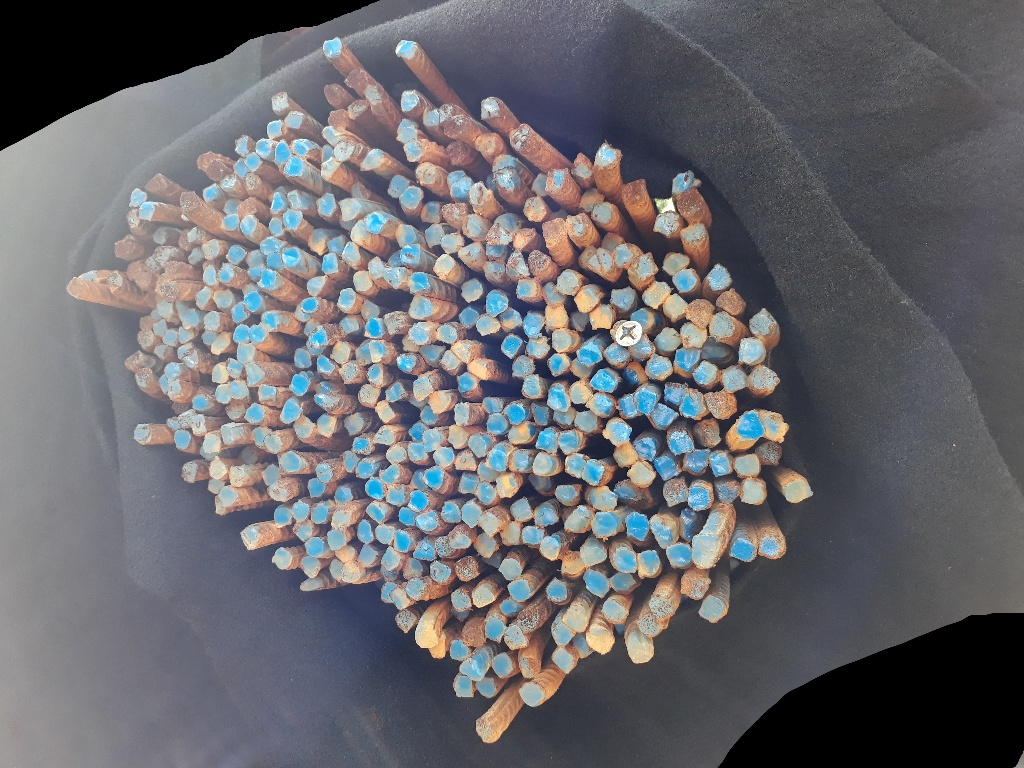dipstick: (705, 389, 740, 419), (649, 512, 678, 548), (693, 534, 721, 570), (680, 571, 712, 602), (747, 365, 781, 394), (698, 594, 728, 625), (679, 387, 709, 418), (716, 288, 749, 316), (734, 410, 764, 440), (642, 280, 671, 310), (441, 202, 470, 231), (627, 459, 657, 487), (604, 417, 634, 445), (737, 336, 767, 364), (444, 141, 476, 167), (739, 477, 768, 505), (761, 413, 789, 442), (587, 628, 616, 656), (562, 505, 590, 534), (746, 307, 774, 336), (686, 298, 714, 327), (649, 592, 677, 620), (654, 326, 682, 354), (680, 320, 708, 348), (695, 417, 721, 447), (674, 346, 704, 372), (783, 478, 814, 503), (587, 486, 619, 510), (706, 262, 733, 290), (663, 478, 689, 507), (517, 681, 546, 707), (507, 422, 536, 448), (587, 304, 616, 330), (505, 623, 530, 653), (652, 455, 682, 480), (702, 336, 732, 361), (570, 152, 595, 182), (473, 131, 503, 156), (679, 508, 702, 540), (668, 430, 695, 457), (650, 402, 677, 429), (671, 268, 698, 295), (602, 599, 630, 625), (708, 312, 736, 338), (630, 253, 658, 279), (577, 186, 605, 212), (543, 217, 565, 250), (759, 534, 788, 559), (734, 453, 763, 478), (613, 544, 638, 573), (523, 195, 548, 224), (587, 248, 617, 272), (552, 646, 578, 673), (682, 449, 708, 476), (645, 353, 672, 379), (386, 173, 413, 199), (756, 441, 784, 466), (666, 544, 694, 569), (545, 576, 570, 604), (591, 370, 619, 395), (629, 333, 654, 361), (664, 293, 689, 321), (615, 479, 644, 503), (507, 249, 531, 278), (428, 387, 452, 416), (543, 305, 573, 328), (468, 180, 491, 210), (627, 511, 649, 542), (560, 549, 586, 575), (586, 391, 612, 417), (622, 361, 648, 387), (610, 285, 636, 311), (730, 537, 757, 562), (592, 511, 617, 538), (629, 641, 656, 666), (605, 343, 632, 368), (653, 210, 680, 235), (593, 141, 620, 166), (709, 449, 733, 477), (580, 542, 608, 566), (450, 339, 478, 363), (508, 123, 532, 151), (484, 222, 512, 246), (399, 183, 423, 211), (552, 617, 575, 646), (610, 571, 641, 592), (687, 485, 712, 511), (613, 442, 639, 467), (722, 366, 747, 392), (577, 341, 603, 366), (509, 446, 534, 472), (383, 309, 409, 334), (338, 359, 364, 384), (671, 171, 698, 195), (484, 289, 508, 316), (340, 560, 367, 584), (328, 340, 355, 364), (528, 401, 551, 429), (681, 223, 709, 246), (557, 269, 580, 297), (638, 549, 659, 579), (292, 520, 322, 541), (529, 468, 554, 493), (526, 334, 551, 359), (515, 276, 540, 301), (475, 312, 500, 337), (461, 213, 486, 238), (473, 717, 497, 743), (693, 361, 719, 385), (461, 277, 485, 303), (533, 505, 560, 528), (547, 352, 570, 379), (523, 310, 546, 337), (512, 227, 539, 250), (450, 176, 477, 199), (317, 392, 348, 412), (569, 303, 591, 331), (461, 499, 482, 528), (499, 558, 523, 583), (455, 556, 479, 581), (390, 586, 415, 610), (462, 499, 482, 529), (487, 411, 511, 436), (466, 433, 490, 458), (406, 439, 430, 464), (423, 222, 447, 247), (408, 296, 433, 320), (366, 362, 390, 387), (271, 546, 296, 570), (635, 436, 658, 462), (476, 532, 499, 558), (620, 179, 646, 202), (422, 464, 445, 490), (458, 241, 484, 264), (433, 253, 456, 279), (395, 221, 418, 247), (358, 382, 381, 408), (267, 480, 293, 503), (276, 450, 302, 473), (219, 423, 245, 446), (634, 387, 656, 414), (238, 523, 260, 550), (582, 458, 603, 486), (501, 520, 522, 548), (421, 197, 442, 225), (471, 584, 495, 608), (434, 535, 458, 559), (415, 510, 439, 534), (495, 166, 519, 190), (414, 160, 438, 184), (716, 480, 741, 503), (476, 676, 501, 699), (429, 561, 454, 584), (554, 482, 579, 505), (558, 429, 581, 454), (401, 557, 426, 580), (480, 95, 503, 120), (442, 231, 467, 254), (452, 672, 474, 698), (548, 384, 570, 410), (663, 252, 689, 274), (458, 470, 480, 496), (443, 116, 469, 138), (396, 117, 418, 143), (520, 526, 547, 547), (497, 472, 518, 499), (536, 424, 557, 451), (477, 458, 498, 485), (422, 426, 443, 453), (508, 579, 531, 603), (501, 596, 525, 619), (575, 409, 599, 432), (632, 308, 655, 332), (454, 448, 478, 471), (439, 500, 463, 523), (403, 138, 426, 162), (342, 241, 365, 265), (337, 198, 361, 221), (359, 148, 382, 172), (511, 497, 533, 522), (478, 511, 500, 536), (570, 379, 592, 404), (575, 287, 597, 312), (543, 281, 565, 306), (409, 324, 434, 346), (344, 413, 366, 438), (209, 456, 231, 481), (293, 415, 315, 440), (562, 612, 588, 633), (492, 653, 513, 679), (413, 376, 434, 402), (315, 412, 336, 438), (522, 372, 541, 400), (418, 345, 446, 364), (565, 454, 588, 477), (664, 381, 687, 404), (529, 250, 552, 273), (374, 424, 397, 447), (458, 306, 481, 329), (333, 140, 356, 163), (550, 328, 572, 352), (499, 308, 521, 332), (408, 270, 430, 294), (322, 83, 346, 105), (395, 608, 416, 633), (501, 335, 522, 360), (512, 356, 537, 377), (467, 357, 492, 378), (442, 349, 463, 374), (399, 88, 420, 113), (178, 343, 199, 368), (193, 287, 214, 312), (485, 616, 505, 642), (566, 212, 586, 238), (395, 353, 421, 373), (312, 501, 332, 527), (638, 616, 661, 638), (459, 658, 482, 680), (449, 638, 471, 661), (406, 576, 428, 599), (571, 357, 593, 380), (591, 202, 614, 224), (577, 247, 600, 269), (458, 370, 480, 393), (488, 448, 510, 471), (355, 459, 378, 481), (401, 244, 423, 267), (385, 265, 407, 288), (365, 212, 388, 234), (316, 193, 338, 216), (515, 610, 536, 634), (414, 627, 438, 648), (436, 322, 460, 343), (280, 401, 304, 422), (289, 372, 310, 396), (144, 172, 168, 193), (539, 536, 559, 561), (546, 167, 566, 192), (357, 543, 377, 568), (179, 459, 199, 484), (308, 326, 328, 351), (452, 590, 474, 612), (532, 452, 554, 474), (385, 442, 407, 464), (301, 556, 323, 578), (327, 527, 349, 549), (363, 316, 385, 338), (320, 157, 342, 179), (243, 290, 265, 312), (462, 626, 485, 647), (385, 378, 406, 401), (315, 354, 336, 377), (215, 263, 236, 286), (476, 481, 496, 505), (449, 423, 469, 447), (386, 485, 410, 505), (365, 476, 385, 500), (375, 399, 395, 423), (530, 171, 550, 195), (327, 109, 351, 129), (206, 161, 230, 181), (275, 139, 292, 167), (552, 407, 577, 426), (599, 229, 624, 248), (354, 339, 373, 364), (654, 196, 680, 214), (414, 540, 436, 561), (505, 402, 526, 424), (292, 348, 313, 370), (228, 379, 250, 400), (231, 301, 253, 322), (213, 288, 234, 310), (179, 308, 200, 330), (113, 238, 135, 259), (409, 489, 429, 512), (374, 523, 397, 543), (331, 508, 354, 528), (395, 39, 418, 59), (308, 476, 328, 499), (273, 504, 293, 527), (338, 315, 361, 335), (284, 157, 307, 177), (491, 155, 518, 172), (356, 518, 375, 542), (250, 425, 269, 449), (245, 361, 264, 385), (308, 228, 327, 252), (409, 419, 430, 440), (218, 485, 239, 506), (360, 298, 381, 319), (259, 268, 280, 289), (422, 107, 444, 127), (307, 274, 327, 296), (323, 37, 343, 59), (344, 67, 366, 87), (246, 247, 266, 269), (120, 351, 142, 371), (201, 239, 221, 261), (125, 208, 145, 230), (393, 530, 412, 553), (433, 447, 456, 466), (420, 403, 439, 426), (366, 500, 385, 523), (293, 499, 312, 522), (349, 219, 368, 242), (239, 213, 258, 236), (212, 330, 231, 353), (163, 362, 186, 381), (263, 432, 284, 452), (225, 357, 245, 378), (158, 282, 178, 303), (138, 202, 158, 223), (65, 277, 86, 297), (382, 546, 401, 568), (397, 504, 416, 526), (258, 383, 277, 405), (238, 196, 257, 218), (196, 151, 218, 170), (136, 329, 158, 348), (380, 580, 398, 603), (211, 494, 229, 517), (322, 253, 340, 276), (270, 91, 288, 114), (341, 449, 358, 473), (312, 381, 346, 393), (200, 264, 217, 288), (613, 244, 633, 264), (304, 536, 324, 556), (203, 433, 223, 453), (107, 269, 123, 294), (381, 463, 402, 482), (316, 461, 335, 482), (338, 287, 357, 308), (321, 126, 342, 145), (362, 83, 381, 104), (284, 207, 303, 228), (227, 245, 246, 266), (221, 214, 242, 233), (285, 189, 303, 211), (134, 367, 152, 389), (152, 342, 174, 360), (180, 191, 198, 213), (188, 225, 210, 243), (185, 245, 203, 267), (334, 485, 357, 502), (261, 463, 278, 486), (367, 256, 384, 279), (300, 576, 326, 591), (484, 242, 510, 257), (260, 237, 284, 253), (246, 403, 265, 423), (213, 364, 232, 384), (353, 270, 372, 290), (264, 251, 283, 271), (350, 182, 371, 200), (291, 138, 312, 156), (483, 259, 505, 276), (175, 428, 192, 450), (152, 225, 169, 247), (448, 532, 471, 548), (177, 410, 196, 429), (387, 248, 406, 267), (282, 247, 301, 266), (285, 111, 304, 130), (268, 218, 287, 237), (220, 173, 239, 192), (304, 317, 323, 336), (351, 435, 369, 455), (134, 424, 152, 444), (429, 637, 446, 658), (446, 169, 467, 186), (439, 100, 456, 121), (368, 339, 385, 360), (348, 99, 370, 115), (454, 402, 469, 425), (483, 395, 502, 413), (401, 333, 419, 352), (326, 235, 345, 253), (266, 120, 285, 138), (244, 152, 263, 170), (178, 228, 196, 247), (206, 475, 226, 492), (238, 447, 258, 464), (215, 383, 232, 403), (236, 343, 253, 363), (250, 323, 267, 343), (261, 312, 278, 332), (256, 139, 273, 159), (232, 157, 249, 177), (166, 380, 183, 400), (152, 318, 169, 338), (125, 261, 145, 278), (336, 546, 357, 562), (228, 466, 244, 487), (244, 172, 260, 193), (203, 312, 221, 330), (223, 197, 242, 214), (154, 245, 171, 264), (412, 466, 427, 487), (269, 191, 284, 212), (155, 301, 173, 318), (129, 188, 147, 205), (189, 394, 208, 410), (320, 144, 336, 163), (329, 558, 343, 579), (162, 328, 177, 347), (201, 328, 217, 345), (138, 314, 154, 331), (166, 417, 184, 432), (302, 297, 320, 312), (234, 136, 249, 154), (203, 183, 218, 201), (178, 327, 196, 342), (143, 256, 160, 271), (248, 267, 265, 281), (149, 307, 166, 320), (159, 372, 169, 394)
